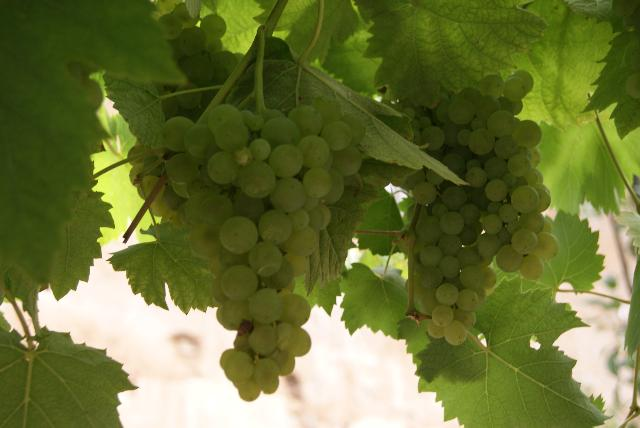grapes: (158, 95, 365, 401), (456, 95, 558, 279), (409, 170, 496, 345), (430, 89, 486, 179)
